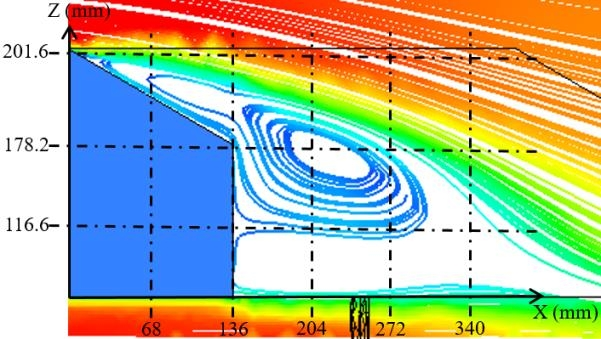vortox: (241, 104, 430, 231)
